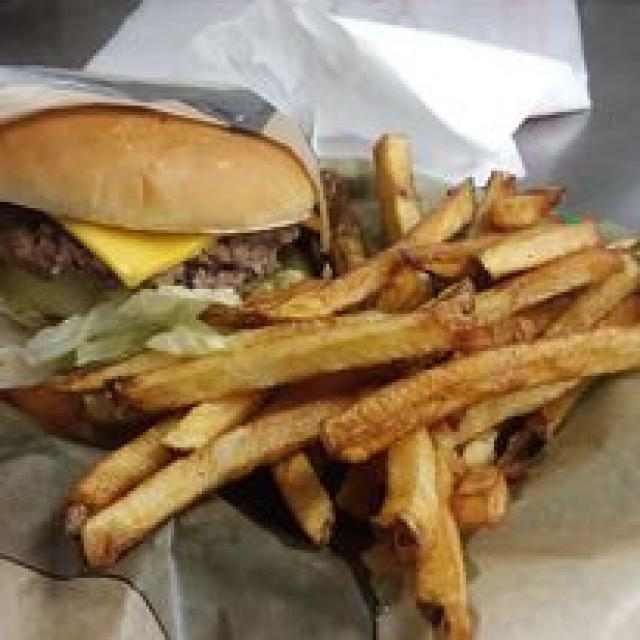Burger: (3, 93, 323, 342)
French Fries: (183, 124, 631, 631)
